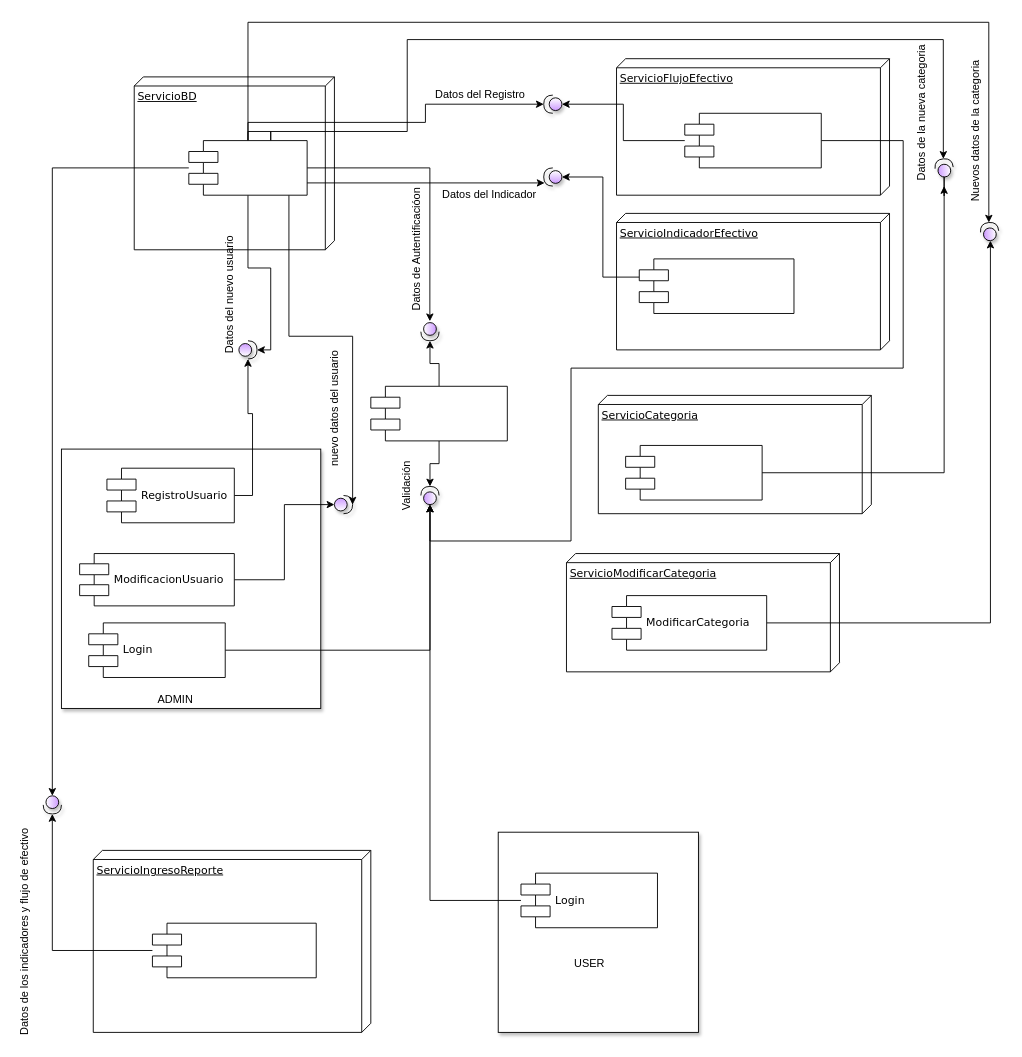
This 1022x1057 diagram has some shape labels left out. Each missing label, with the centre of its shape:
Base de Datos: the point at 247,167
IndicadoresEfectivo: the point at 716,285
RegistroCategoria: the point at 693,472
RegistroEfectivo: the point at 752,140
ReporteIndicadores: the point at 234,950
ValidarUsuario: the point at 438,413
